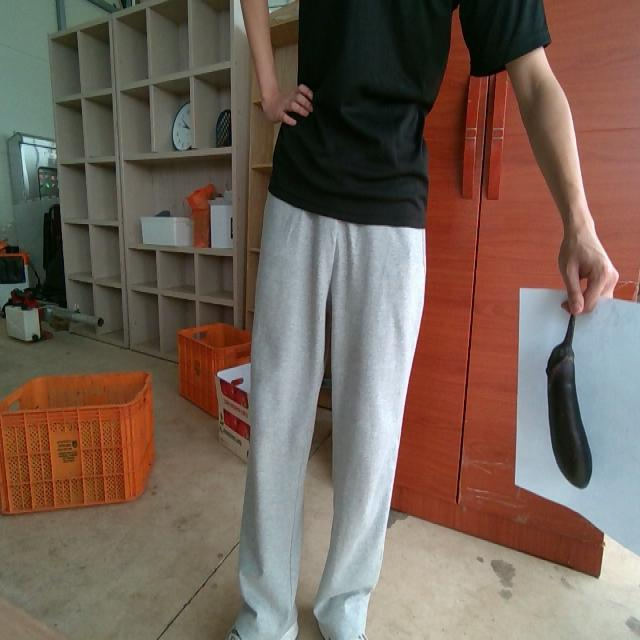Egg plant: (547, 315, 592, 487)
